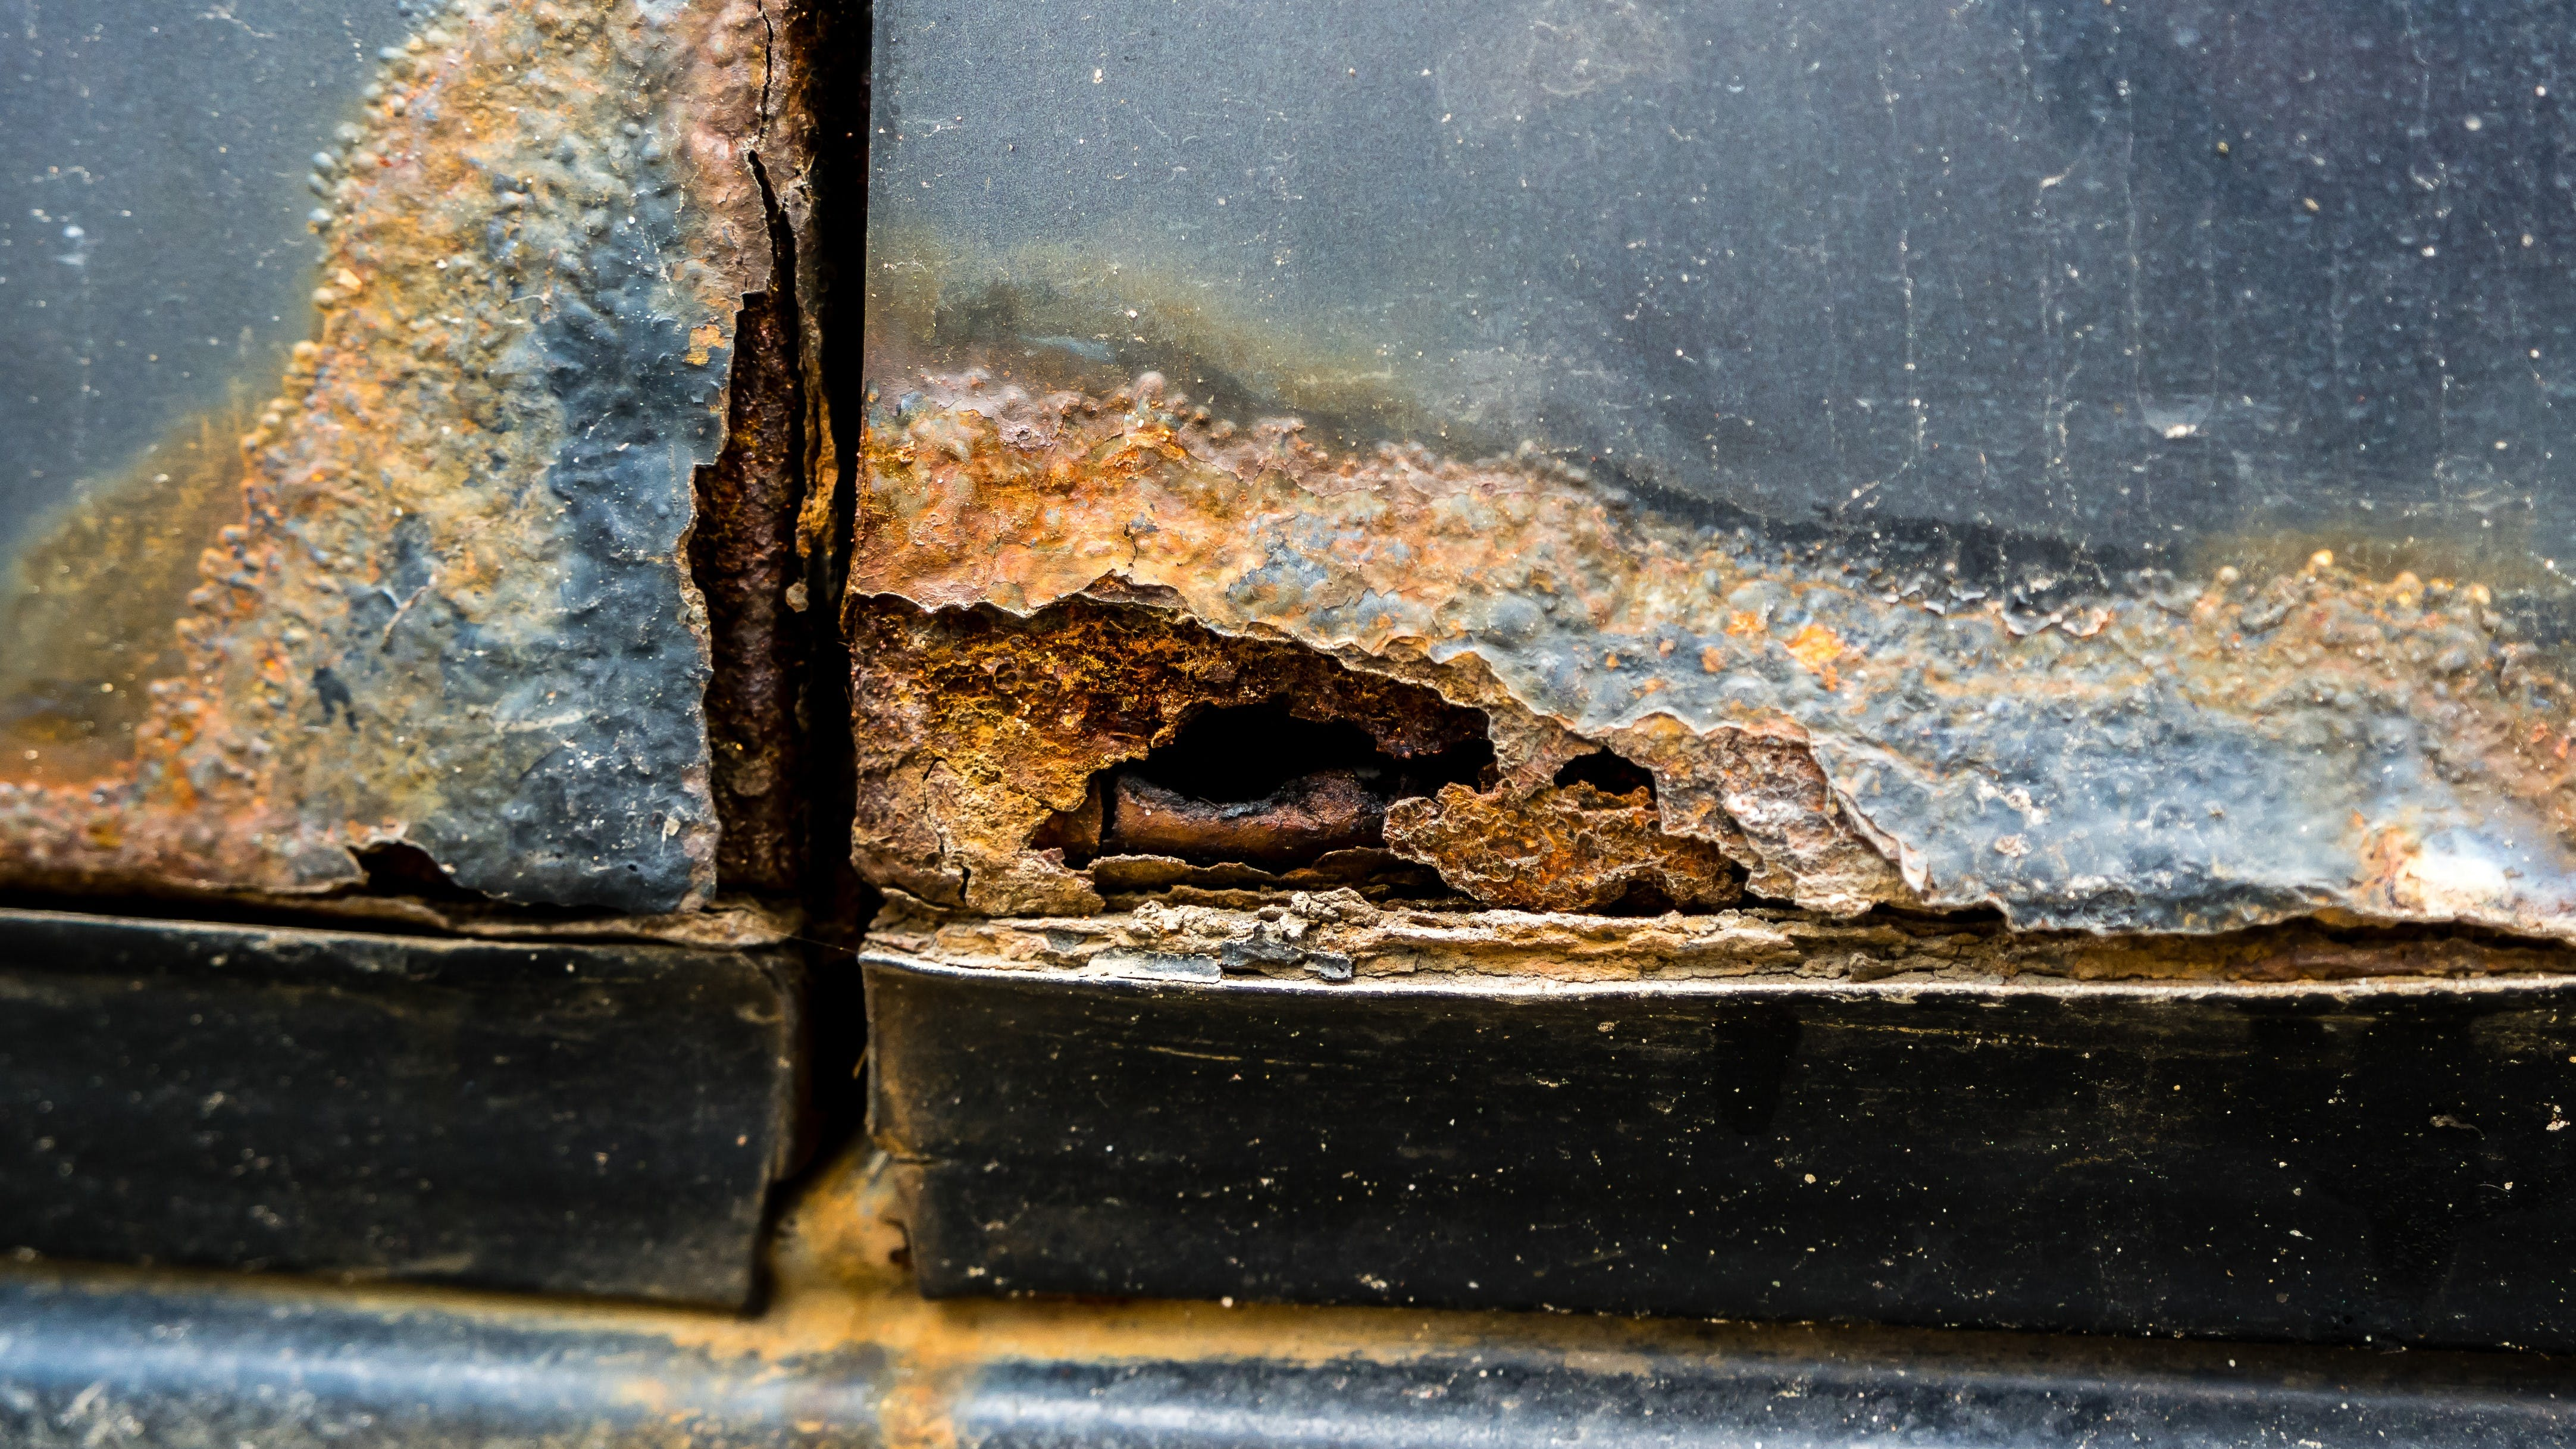rust: (856, 589, 1948, 987), (660, 120, 837, 925)
